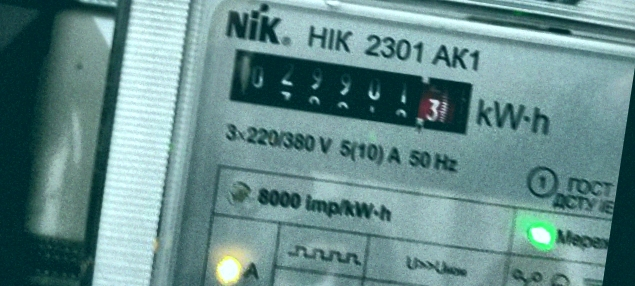0: (364, 71, 384, 102), (246, 60, 267, 89)
1: (395, 75, 412, 105)
2: (276, 58, 298, 88)
3: (422, 94, 442, 122)
9: (306, 63, 326, 92), (336, 68, 353, 97)
screen: (217, 36, 485, 146)
